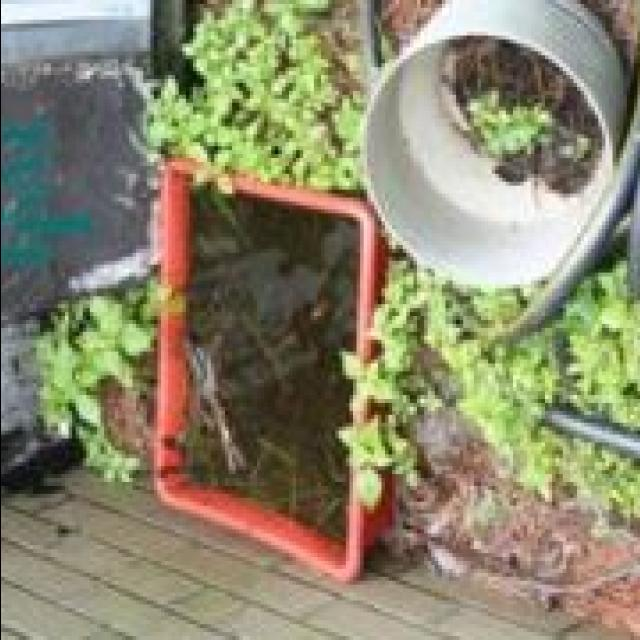Breeding Place: (149, 157, 376, 580), (364, 0, 635, 293)
